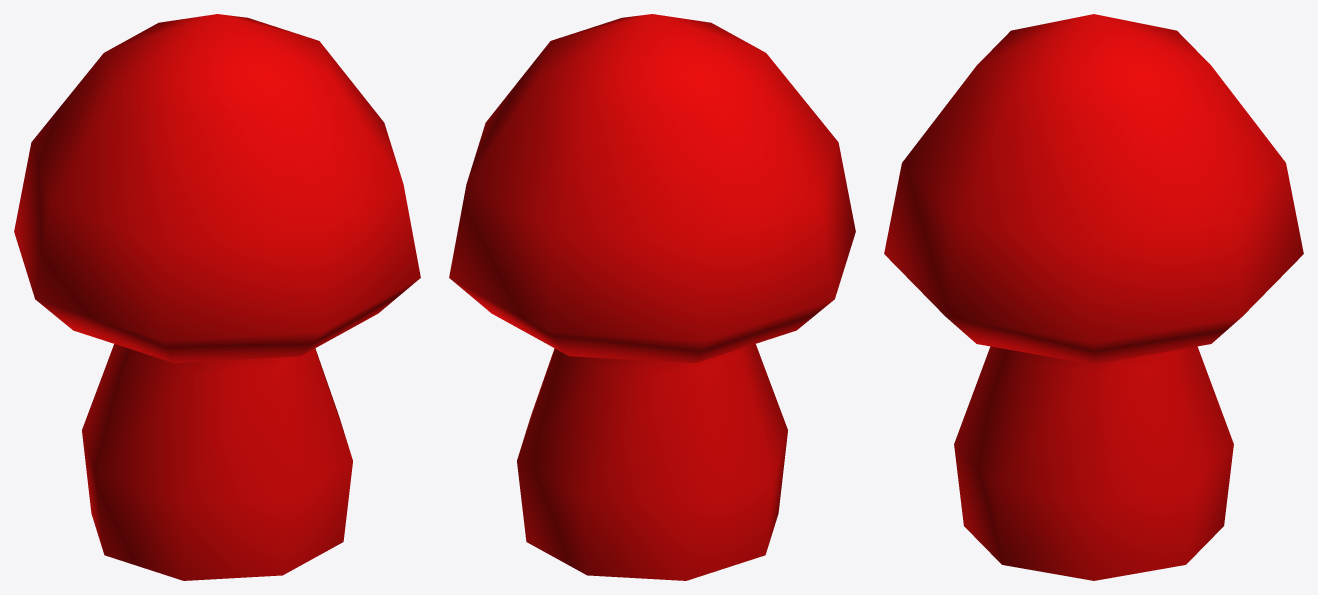
Rendered from Mushroom03.fbx.
3 renders of one model, left to right at view 1: azimuth 30°, elevation 25°; view 2: azimuth 150°, elevation 25°; view 3: azimuth 270°, elevation 25°, orthographic.
Parts seen in each view (by area): view 1: Mushroom03; view 2: Mushroom03; view 3: Mushroom03.
Part boxes in pixels (x1,y1,x2,y2): Mushroom03: (14,14,420,580); Mushroom03: (449,14,855,580); Mushroom03: (884,14,1303,580).
Bounding box in the file's own units: 0.3314 × 0.446 × 0.3314.
